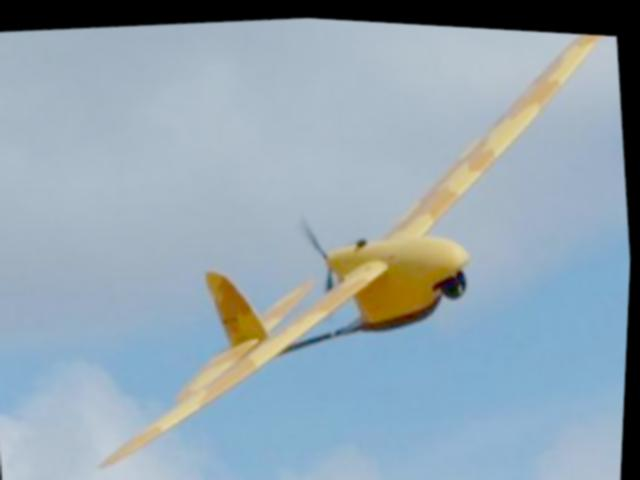uav: (52, 3, 640, 480)
